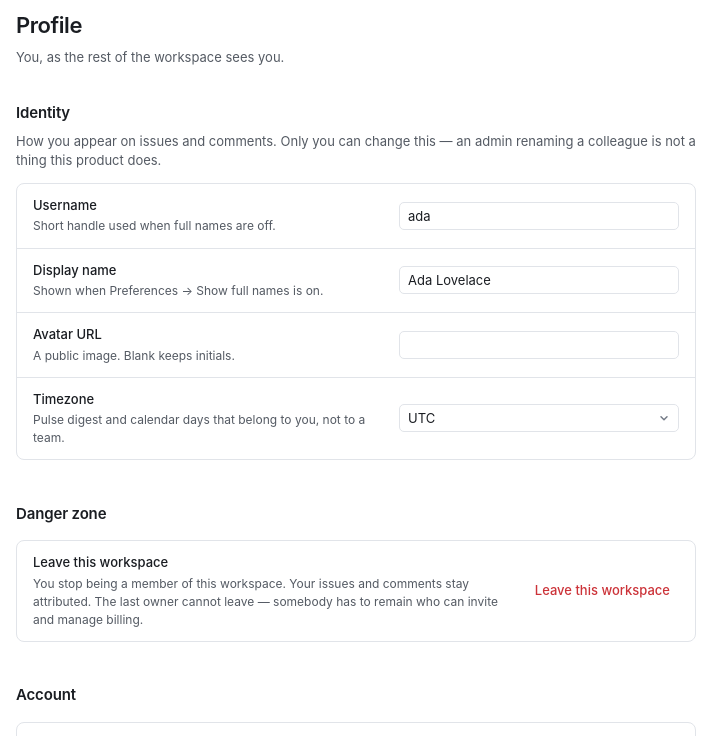
Scenario: Profile names › takes the refusal away as soon as the field is typed in again
Clear the field named "Username" in the row of "Username" at (539, 216), box left=408, top=202, right=670, bottom=228
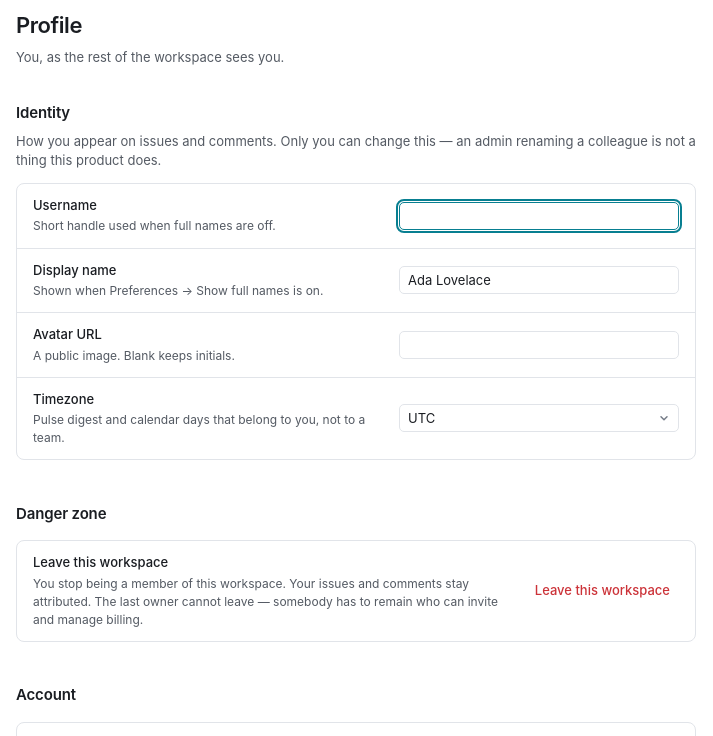
Press Tab
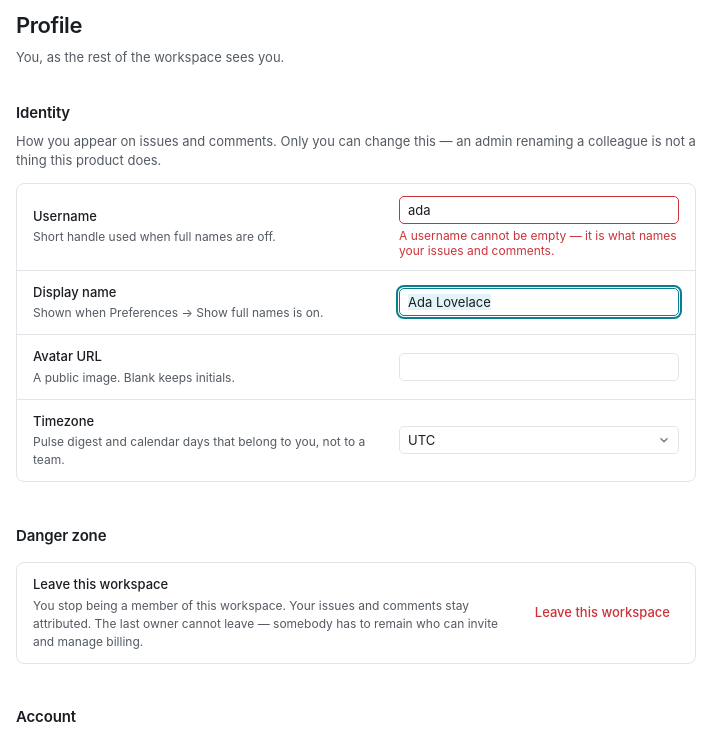
expect the message "A username cannot be empty — it is what names your issues and comments." is shown: met, box left=399, top=228, right=679, bottom=258
Type "x" into the 1st field named "Username" at (539, 210), box left=408, top=196, right=670, bottom=222
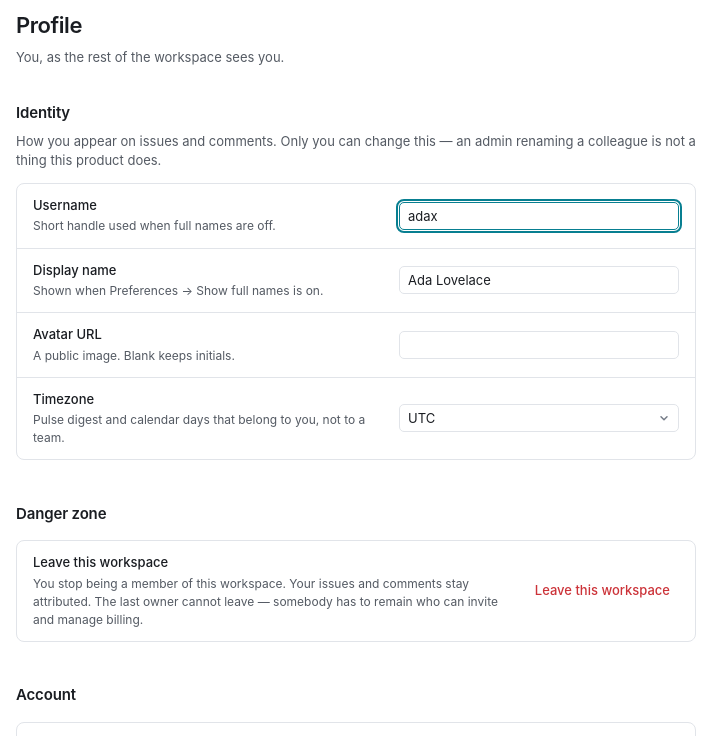
expect the message "A username cannot be empty — it is what names your issues and comments." is gone: met
